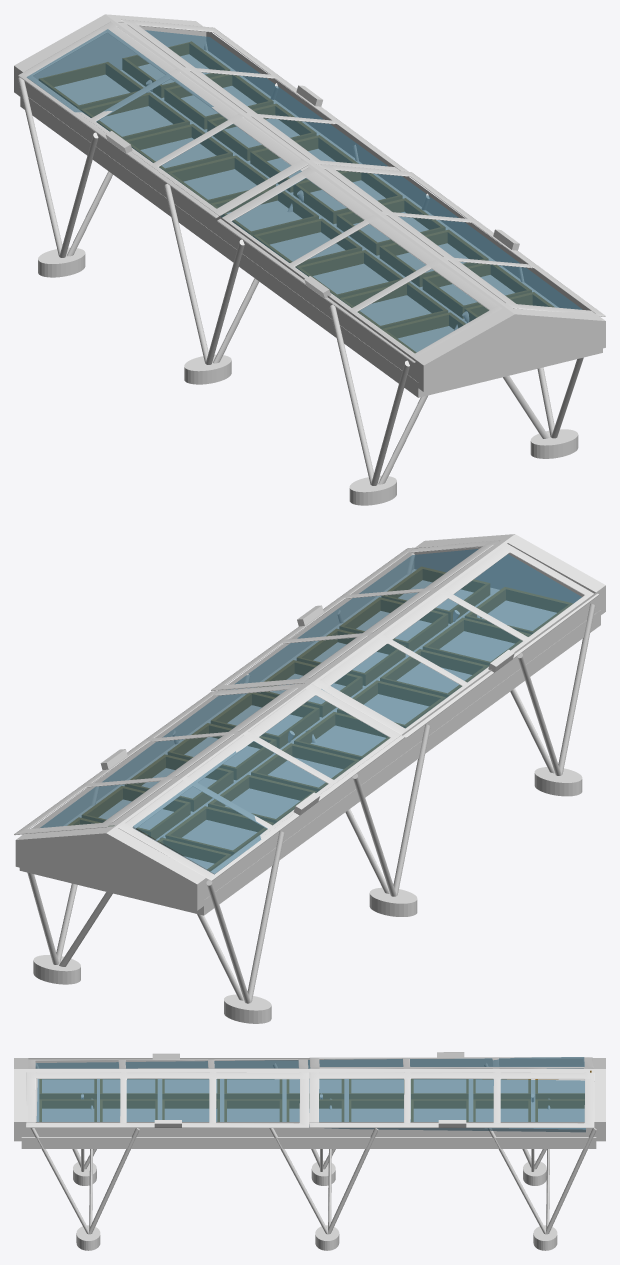
The model's file is brownn.glb.
3 views of the same model, one above another, from view 1: azimuth 30°, elevation 25°; view 2: azimuth 150°, elevation 25°; view 3: azimuth 270°, elevation 25° (orthographic). The views are drawn at different scales.
Parts seen in each view (by area): view 1: Cube.032, Cube.019, Cube, Cube.031, Cube.034, Cube.033, Cube.036, Cube.035, Cylinder.006, Cylinder.005, Cylinder.004, Cylinder.003 (+17 smaller); view 2: Cube.032, Cube.019, Cube, Cube.031, Cube.034, Cube.033, Cube.035, Cube.036, Cylinder.005, Cylinder.004, Cylinder.006, Cylinder.002 (+17 smaller); view 3: Cube.031, Cube, Cube.019, Cube.035, Cube.036, Cube.032, Cylinder.001, Cylinder.002, Cylinder.003, Cube.034, Cube.033, Cylinder.004 (+19 smaller).
Part boxes in pixels (box(x1,y1,x2,y2)): Cube.032: box(27, 29, 488, 352); Cube.019: box(14, 14, 605, 391); Cube: box(20, 50, 602, 397); Cube.031: box(145, 30, 582, 309); Cube.034: box(18, 21, 308, 218); Cube.033: box(217, 167, 501, 362); Cube.036: box(318, 164, 605, 316); Cube.035: box(121, 19, 407, 171); Cylinder.006: box(329, 304, 463, 505); Cylinder.005: box(164, 184, 298, 384); Cylinder.004: box(18, 77, 152, 277); Cylinder.003: box(462, 267, 583, 458); Cube.032: box(132, 554, 581, 874); Cube.019: box(15, 534, 605, 910); Cube: box(19, 569, 600, 915); Cube.031: box(40, 549, 478, 827); Cube.034: box(118, 684, 404, 881); Cube.033: box(314, 543, 598, 737); Cube.035: box(14, 683, 304, 835); Cube.036: box(211, 540, 500, 691); Cylinder.005: box(306, 724, 430, 916); Cylinder.004: box(160, 831, 284, 1023); Cylinder.006: box(477, 603, 595, 796); Cylinder.002: box(27, 787, 112, 984); Cube.031: box(36, 1079, 585, 1132); Cube: box(21, 1079, 596, 1148); Cube.019: box(14, 1058, 605, 1141); Cube.035: box(309, 1072, 594, 1127); Cube.036: box(26, 1072, 309, 1127); Cube.032: box(35, 1057, 584, 1068); Cylinder.001: box(269, 1105, 378, 1250); Cylinder.002: box(487, 1105, 596, 1250); Cylinder.003: box(30, 1105, 139, 1250); Cube.034: box(309, 1052, 593, 1068); Cube.033: box(28, 1053, 308, 1068); Cylinder.004: box(484, 1063, 546, 1185).
Bounding box in the file's own units: 0.7544 × 0.6235 × 2.34.
6 materials, 2 textured.
